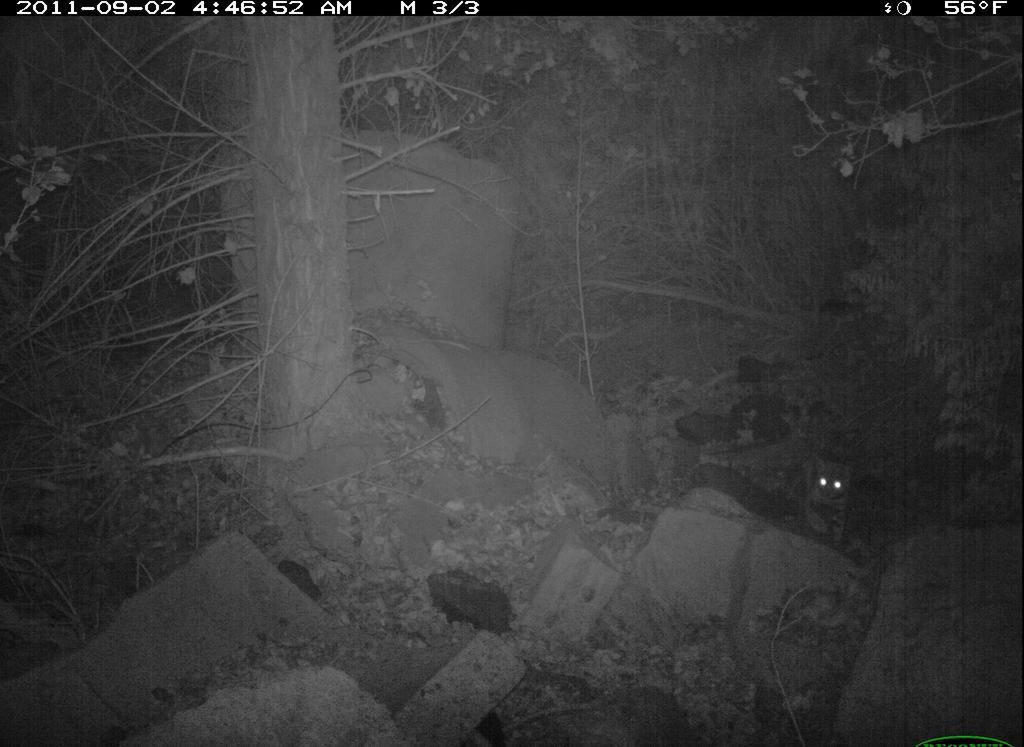bobcat: (777, 438, 856, 542)
